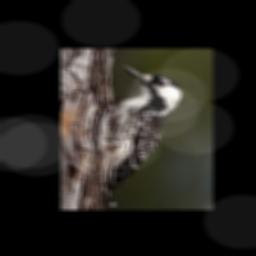Woodpecker: (98, 64, 185, 190)
